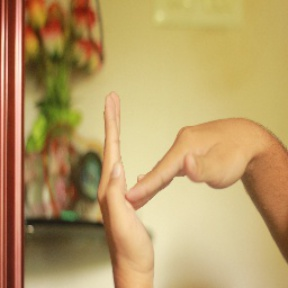Z: (89, 77, 259, 270)
